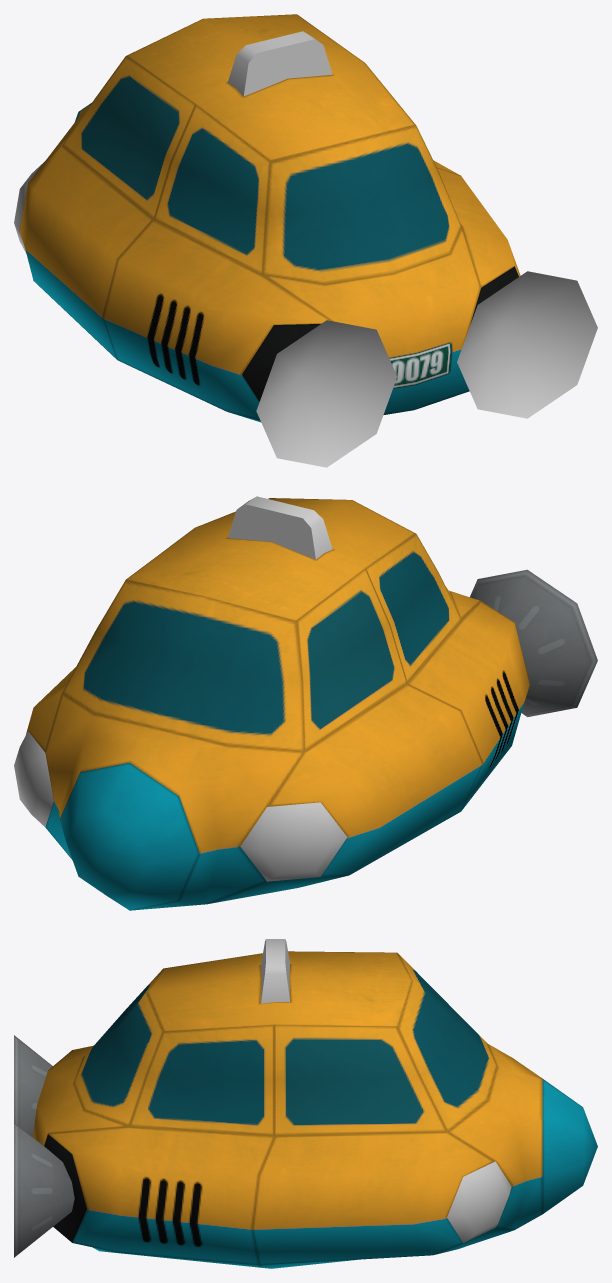
Rendered from ShipTaxi.fbx.
3 views of the same model, one above another, from view 1: azimuth 30°, elevation 25°; view 2: azimuth 150°, elevation 25°; view 3: azimuth 270°, elevation 25° (orthographic). The views are drawn at different scales.
Parts seen in each view (by area): view 1: Empty_Mesh; view 2: Empty_Mesh; view 3: Empty_Mesh.
Part boxes in pixels (x1=…): Empty_Mesh: x1=14, y1=14, x2=597, y2=467; Empty_Mesh: x1=14, y1=496, x2=597, y2=910; Empty_Mesh: x1=14, y1=939, x2=597, y2=1268.
Bounding box in the file's own units: 0.5288 × 0.4059 × 0.7912.
